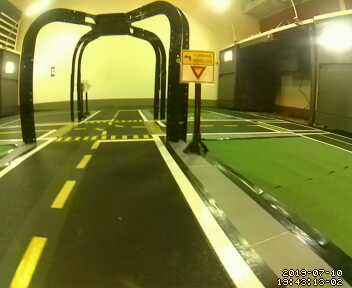Turn Yield: (182, 50, 215, 83)
